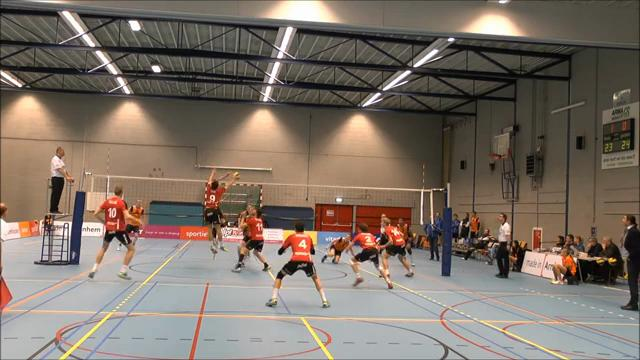Block: (201, 165, 240, 254)
Player: (266, 222, 329, 307), (88, 186, 135, 279), (345, 223, 392, 288), (232, 209, 270, 271), (382, 217, 413, 276), (321, 235, 351, 264), (125, 200, 143, 245), (397, 218, 414, 265), (237, 204, 252, 256), (378, 214, 388, 253)
